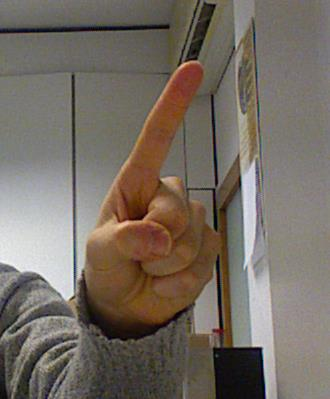up: (73, 57, 228, 315)
